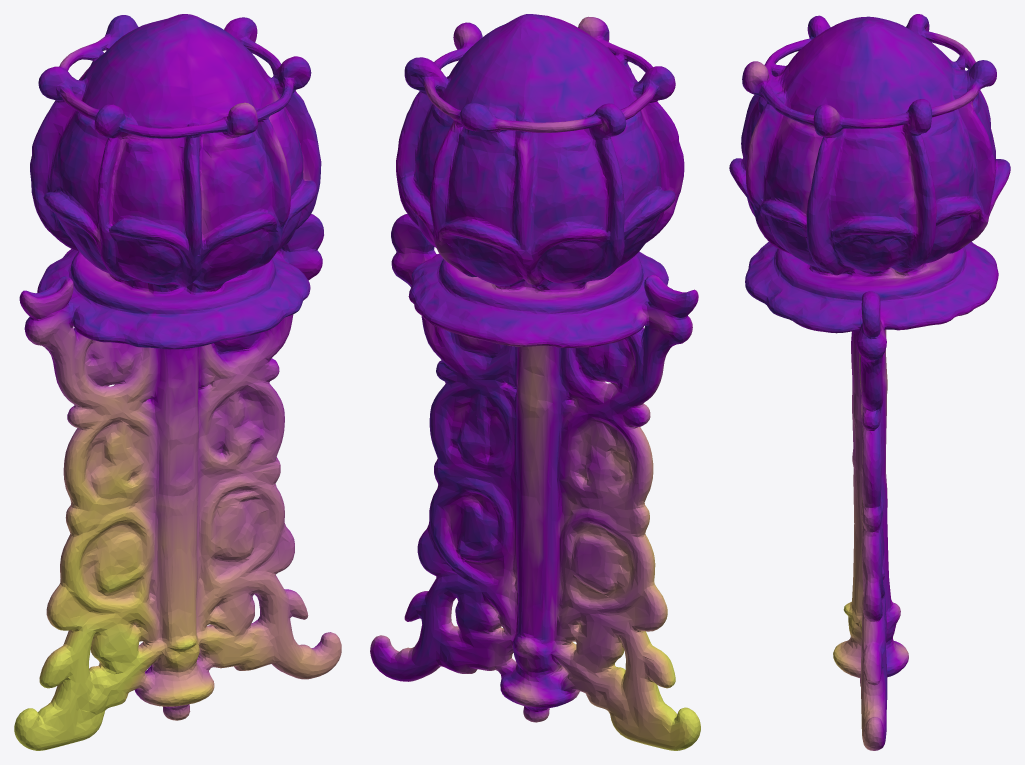
The model's file is iter_7.glb.
The picture shows the model from 3 angles, left to right: view 1: azimuth 30°, elevation 25°; view 2: azimuth 150°, elevation 25°; view 3: azimuth 270°, elevation 25°; orthographic projection. The views are drawn at different scales.
Parts seen in each view (by area): view 1: textured_mesh; view 2: textured_mesh; view 3: textured_mesh.
Boxes of the visible parts, x1,y1,x2,y2 form: textured_mesh: [14, 14, 341, 750]; textured_mesh: [370, 14, 700, 750]; textured_mesh: [729, 14, 1010, 750].
Size of the model in its own units: 0.9726 by 2 by 0.7577.
